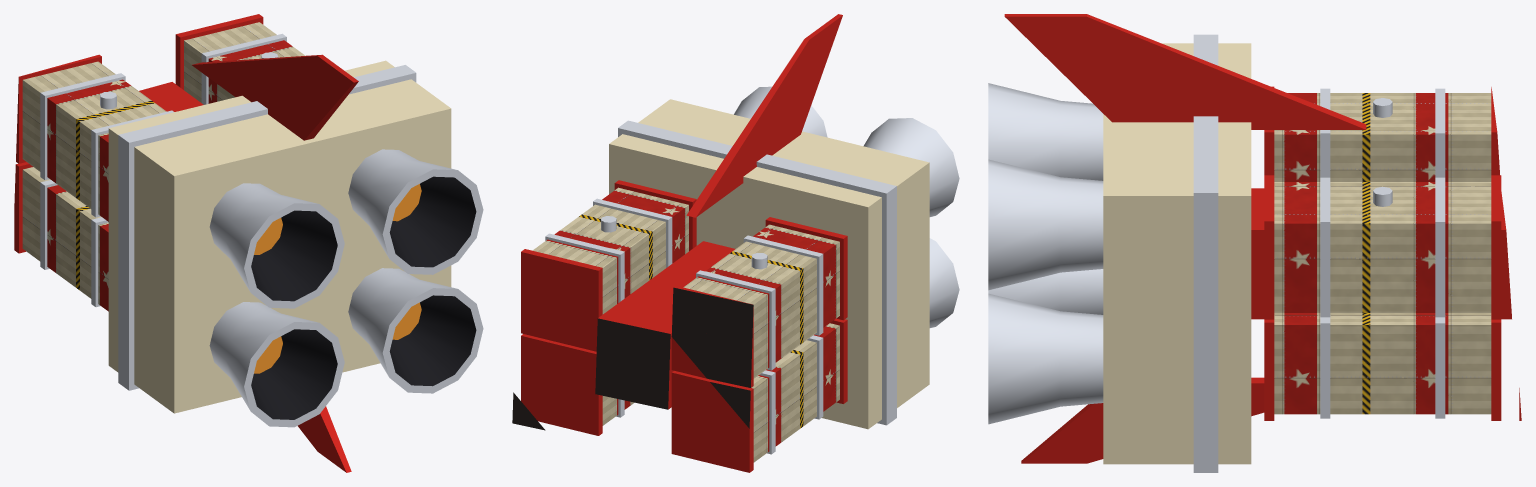
The model's file is supply_ship_debris3.obj.
The picture shows the model from 3 angles, left to right: view 1: azimuth 30°, elevation 25°; view 2: azimuth 150°, elevation 25°; view 3: azimuth 270°, elevation 25°; orthographic projection. The views are drawn at different scales.
Parts seen in each view (by area): view 1: engine_block, bell, container, fin_top, engine_trim, rib, end_frame, fin_bottom, spine; view 2: engine_block, end_frame, container, spine, fin_top, engine_trim, bell, rib, latch; view 3: container, engine_block, bell, fin_top, engine_trim, rib, end_frame, fin_bottom, spine, latch.
Part boxes in pixels (<box>): engine_block: <box>108,60,451,413</box>; bell: <box>209,149,483,427</box>; container: <box>22,22,305,311</box>; fin_top: <box>192,54,358,140</box>; engine_trim: <box>118,65,416,390</box>; rib: <box>40,33,286,307</box>; end_frame: <box>14,14,263,253</box>; fin_bottom: <box>298,406,351,472</box>; spine: <box>139,82,203,111</box>; engine_block: <box>609,99,929,429</box>; end_frame: <box>512,180,847,472</box>; container: <box>533,187,839,462</box>; spine: <box>595,241,735,409</box>; fin_top: <box>686,14,842,217</box>; engine_trim: <box>618,120,896,425</box>; bell: <box>734,86,959,327</box>; rib: <box>545,198,823,454</box>; latch: <box>601,216,767,269</box>; container: <box>1274,93,1491,414</box>; engine_block: <box>1103,43,1251,464</box>; bell: <box>988,83,1103,424</box>; fin_top: <box>1004,14,1366,129</box>; engine_trim: <box>1193,34,1218,472</box>; rib: <box>1320,88,1445,418</box>; end_frame: <box>1264,86,1521,420</box>; fin_bottom: <box>1021,377,1264,463</box>; spine: <box>1251,188,1511,319</box>; latch: <box>1373,98,1392,206</box>.
Bounding box in the file's own units: 22.8 × 30 × 32.45.
7 materials, 1 textured.
